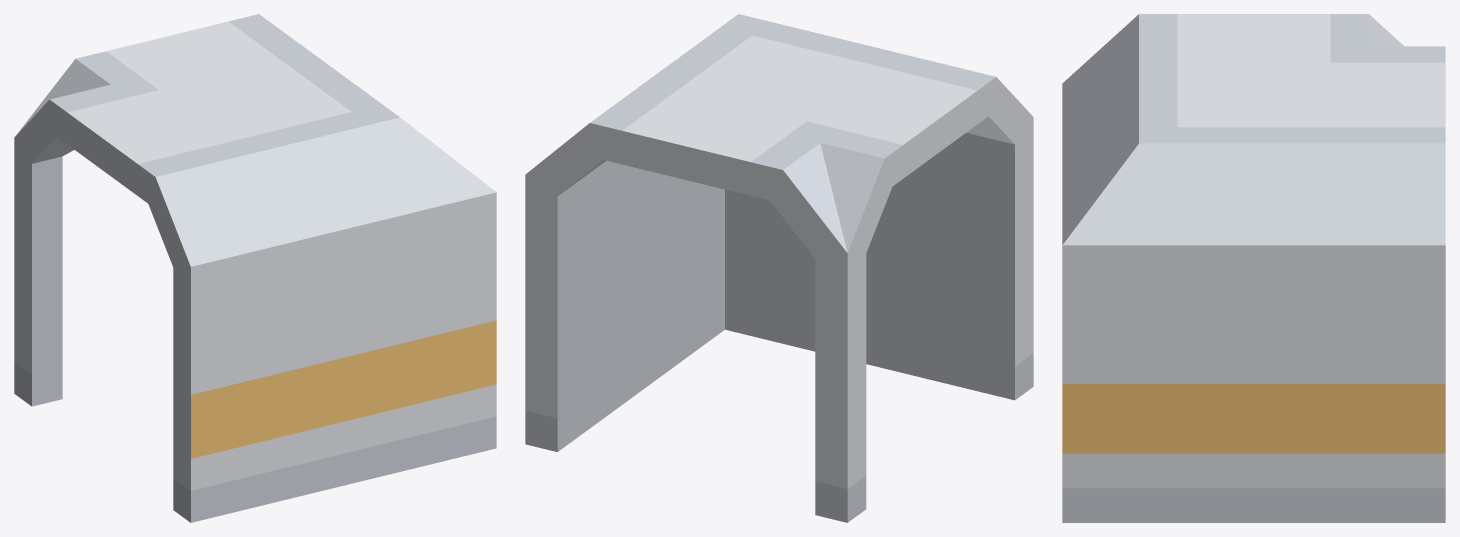
Rendered from space_corridor_corner.glb.
The picture shows the model from 3 angles, left to right: view 1: azimuth 30°, elevation 25°; view 2: azimuth 150°, elevation 25°; view 3: azimuth 270°, elevation 25°; orthographic projection. The views are drawn at different scales.
Parts seen in each view (by area): view 1: corridor_corner; view 2: corridor_corner; view 3: corridor_corner.
Boxes of the visible parts, bbox=[...] form: corridor_corner: bbox=[14, 14, 496, 522]; corridor_corner: bbox=[525, 14, 1033, 522]; corridor_corner: bbox=[1062, 14, 1445, 522].
Size of the model in its own units: 1 by 1 by 1.
